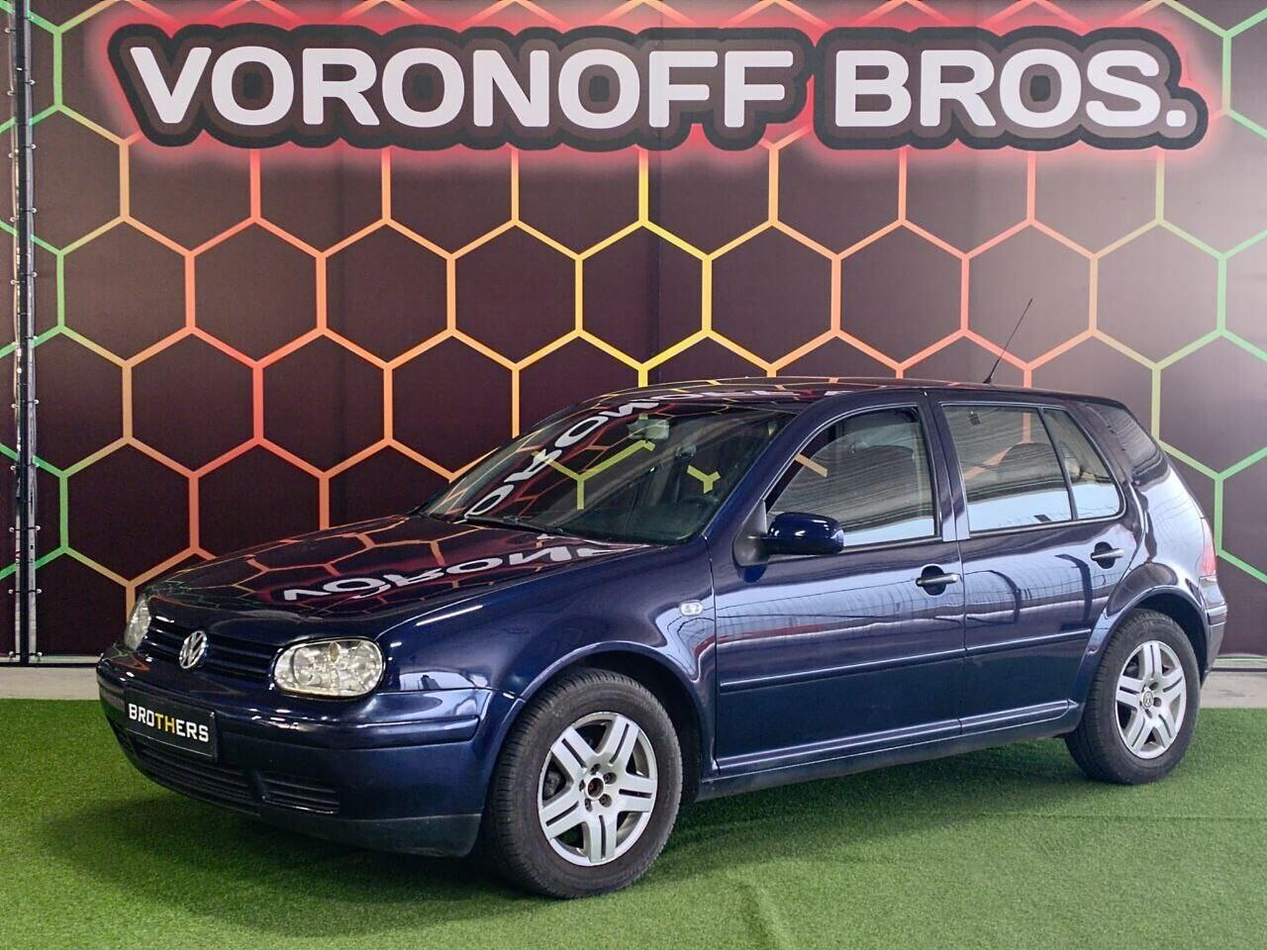Golf_1997-2006: (92, 373, 1235, 889)
